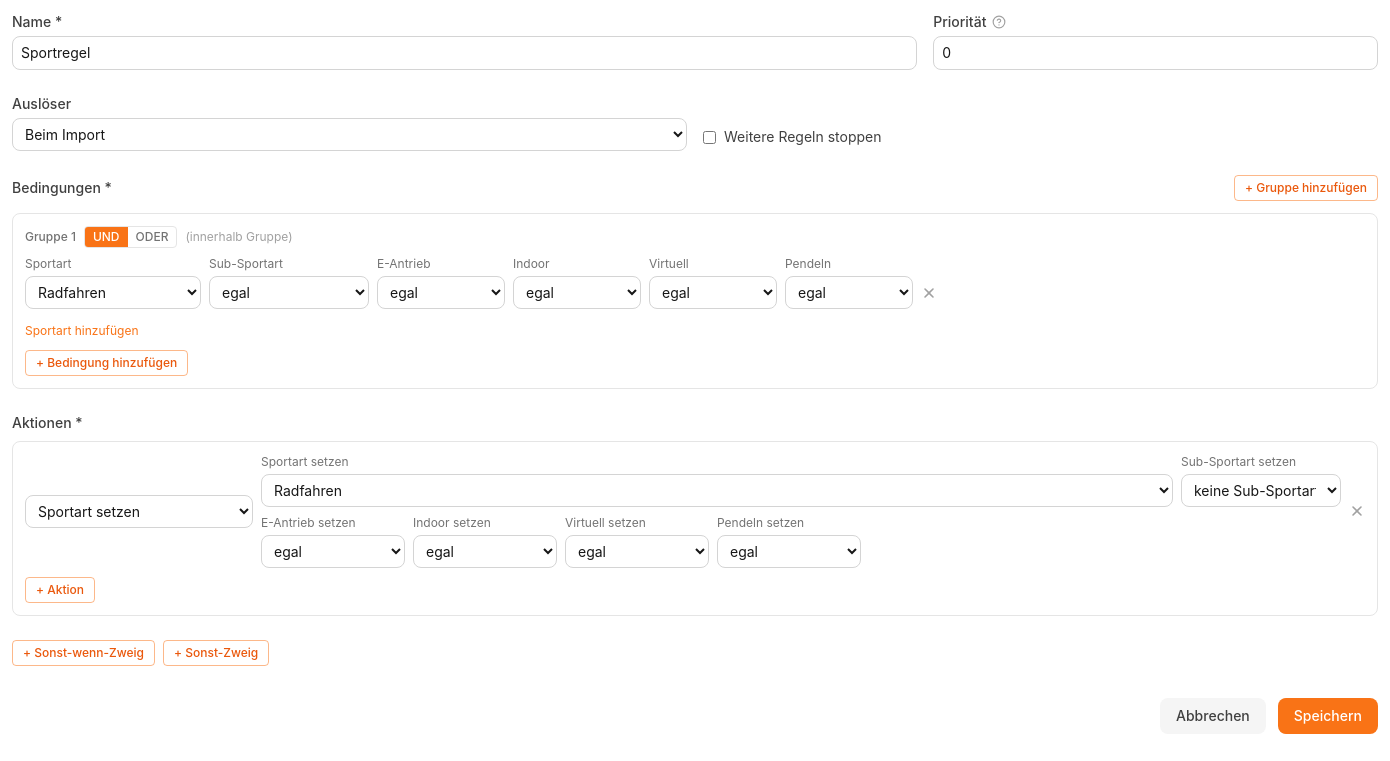
RuleEditor sport tuple controls › keeps newly added conditions visible when a sport tuple already exists
This screenshot has width=1390, height=761.
Step 1. Click the button "+ Bedingung hinzufügen" → x=107, y=363, box x1=25 y1=350 x2=188 y2=376
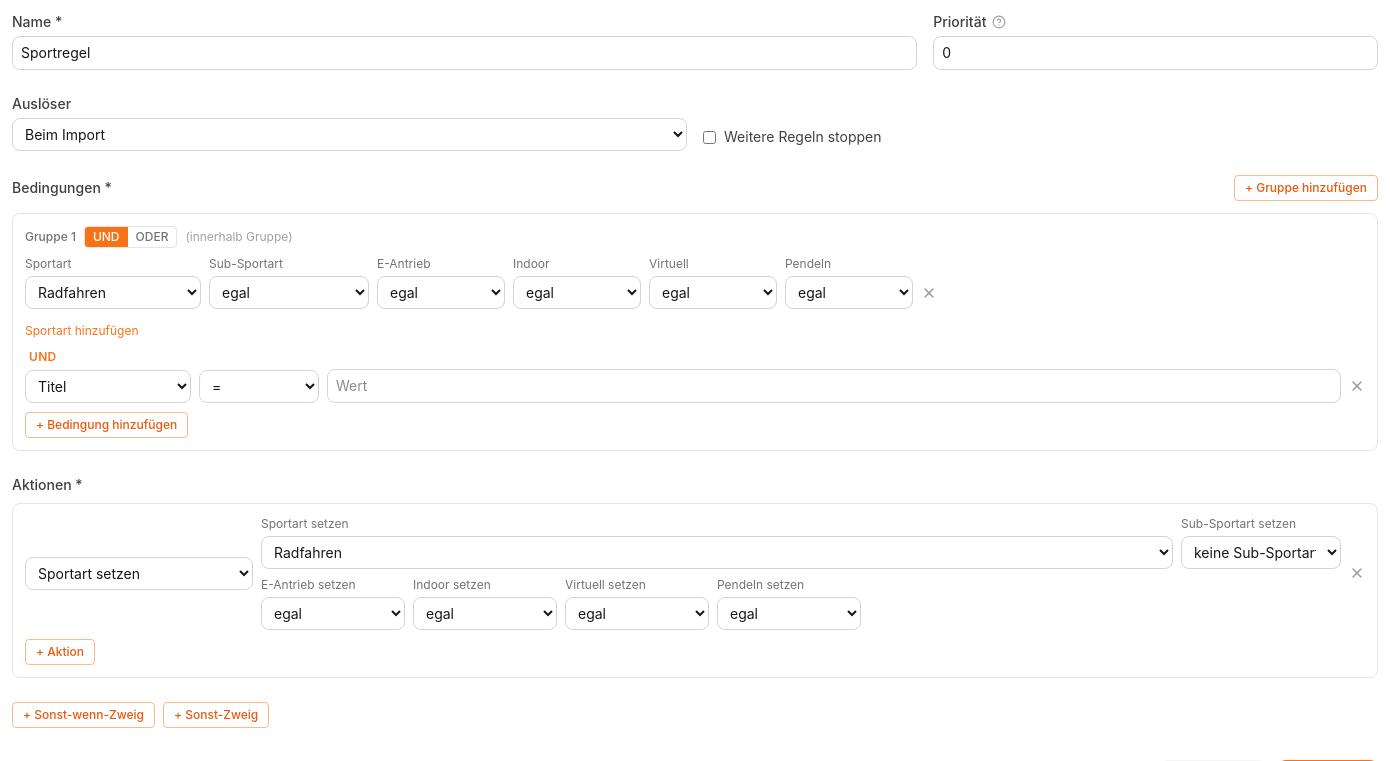
Expected: the dropdown labelled "Sportart" is shown, x1=25 y1=276 x2=201 y2=309
Result: the 2nd dropdown showing "Titel" is shown at x1=25 y1=370 x2=191 y2=402
